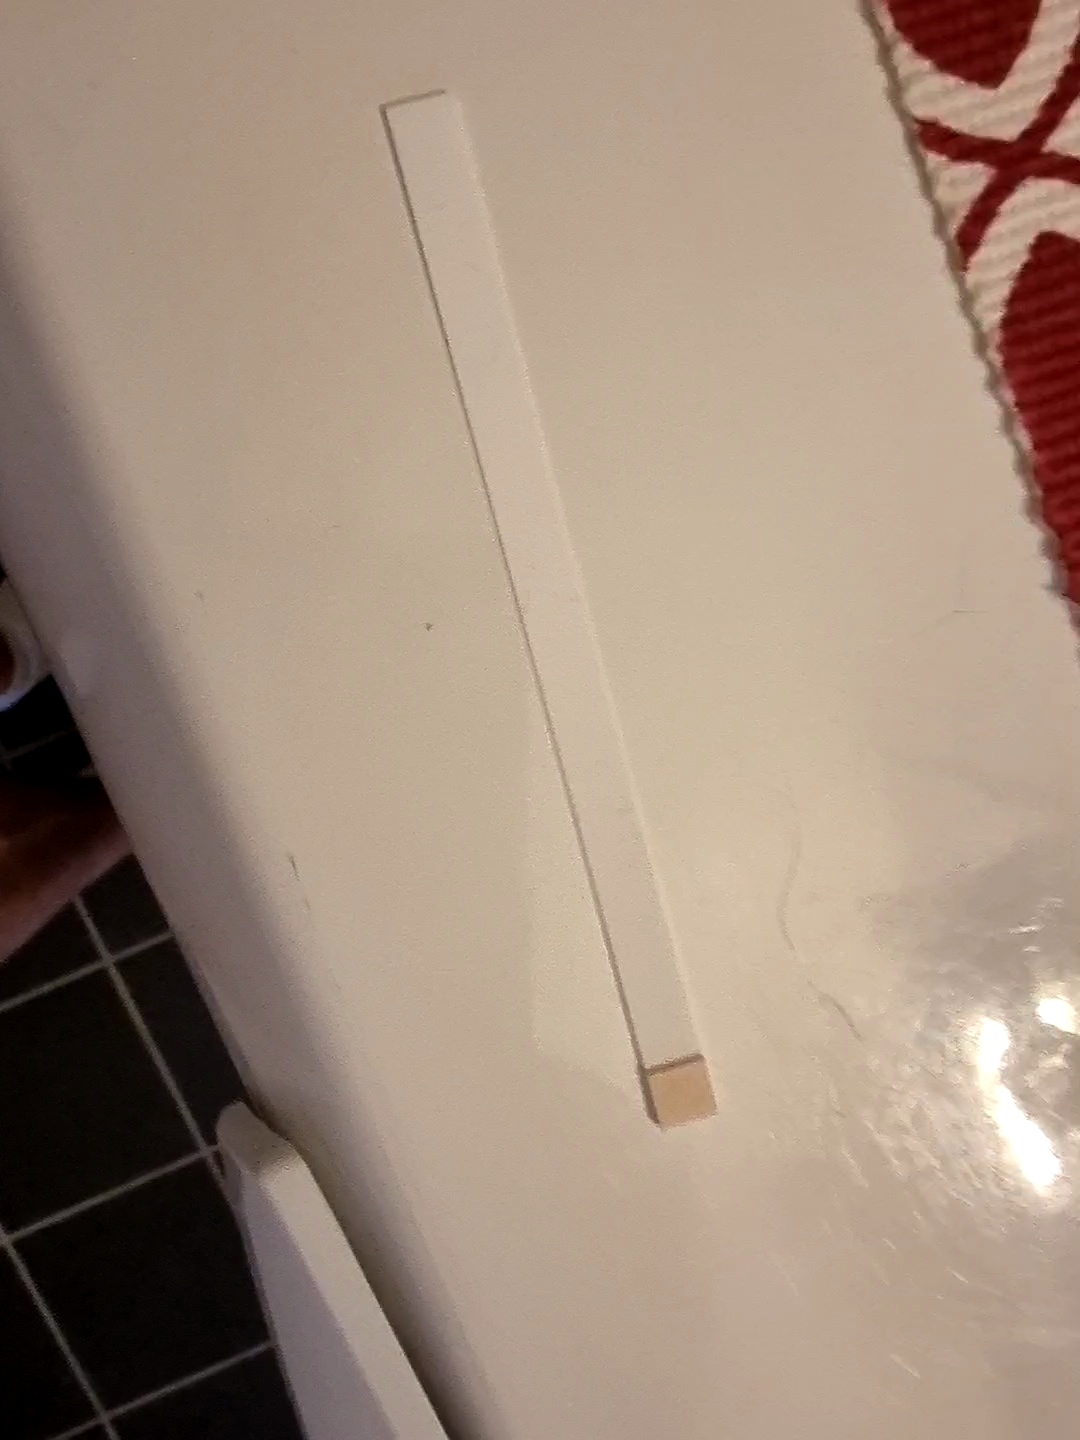keto-tip: (633, 1050, 728, 1134)
